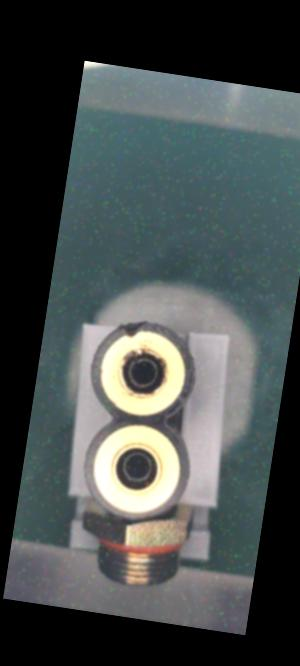bump: (115, 310, 148, 343)
